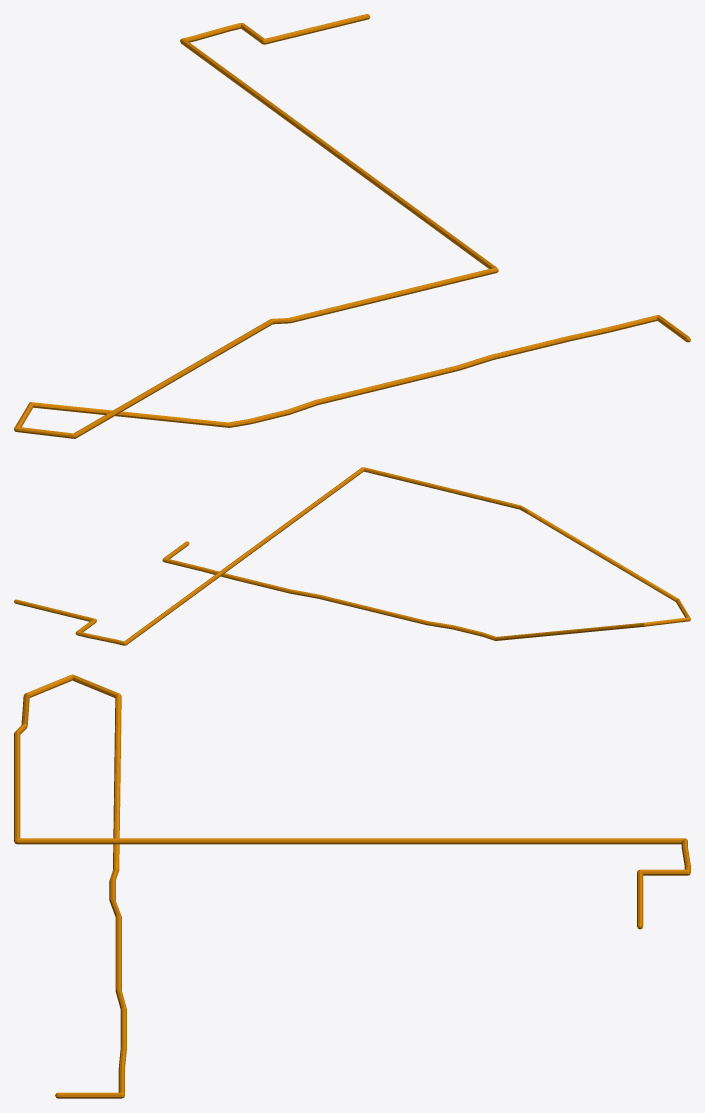
3 renders of one model, top to bottom at view 1: azimuth 30°, elevation 25°; view 2: azimuth 150°, elevation 25°; view 3: azimuth 270°, elevation 25°, orthographic. The views are drawn at different scales.
Size of the model in its own units: 2595 by 520 by 2129.
